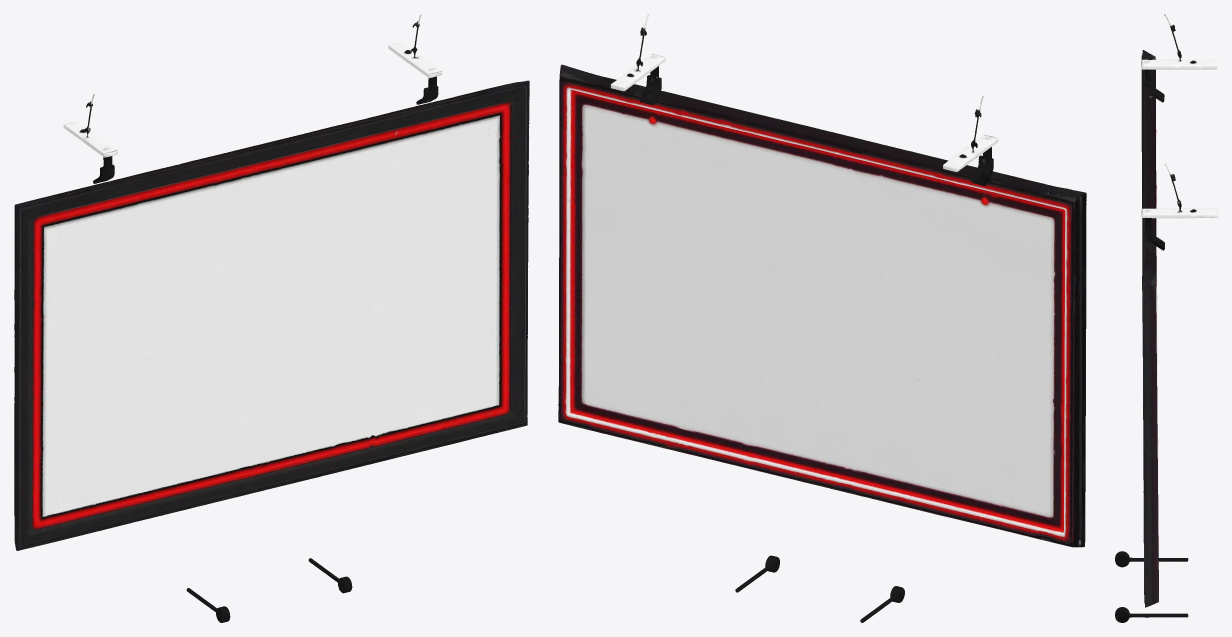
File: billboard-1.glb
The picture shows the model from 3 angles, left to right: view 1: azimuth 30°, elevation 25°; view 2: azimuth 150°, elevation 25°; view 3: azimuth 270°, elevation 25°; orthographic projection. The views are drawn at different scales.
Size of the model in its own units: 1.9 by 1.9 by 0.3514.
Materials: 1 (1 with a texture image).
